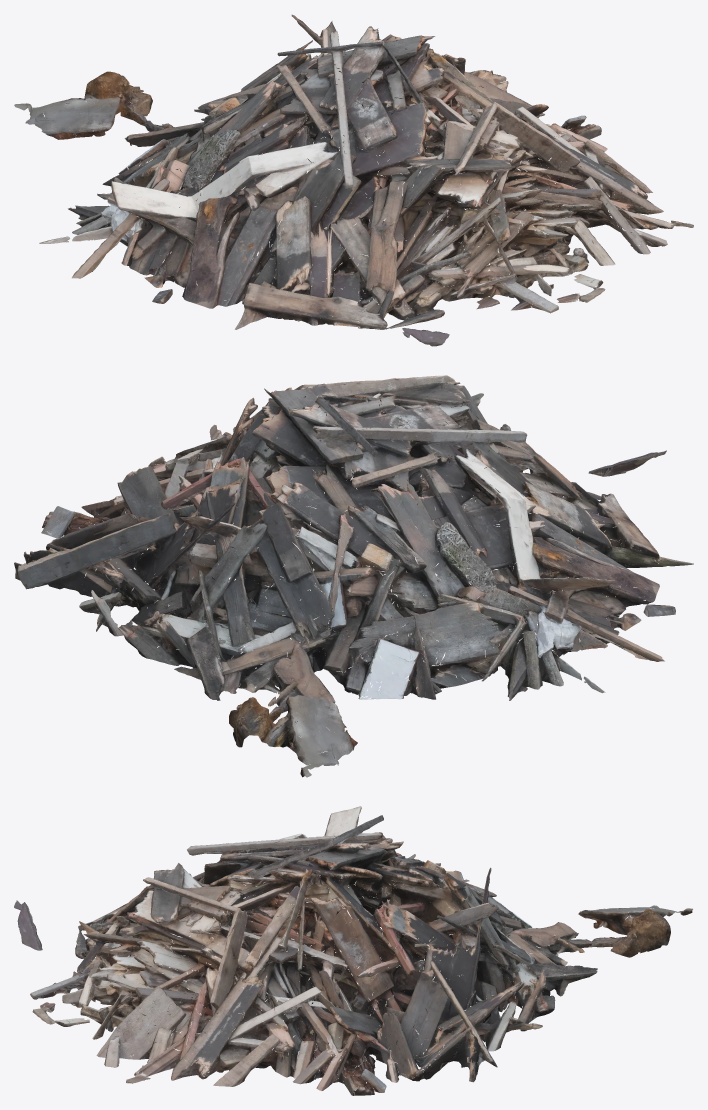
File: waste-lumber-pile.glb
3 renders of one model, top to bottom at view 1: azimuth 30°, elevation 25°; view 2: azimuth 150°, elevation 25°; view 3: azimuth 270°, elevation 25°, orthographic. The views are drawn at different scales.
Visible parts, largest first — view 1: Model; view 2: Model; view 3: Model.
Boxes of the visible parts, left/top/right/bottom form: Model: left=14, top=14, right=693, bottom=346; Model: left=14, top=375, right=693, bottom=777; Model: left=14, top=806, right=692, bottom=1095.
Bounding box in the file's own units: 27.98 × 8.01 × 32.03.
3 materials, 3 textured.
